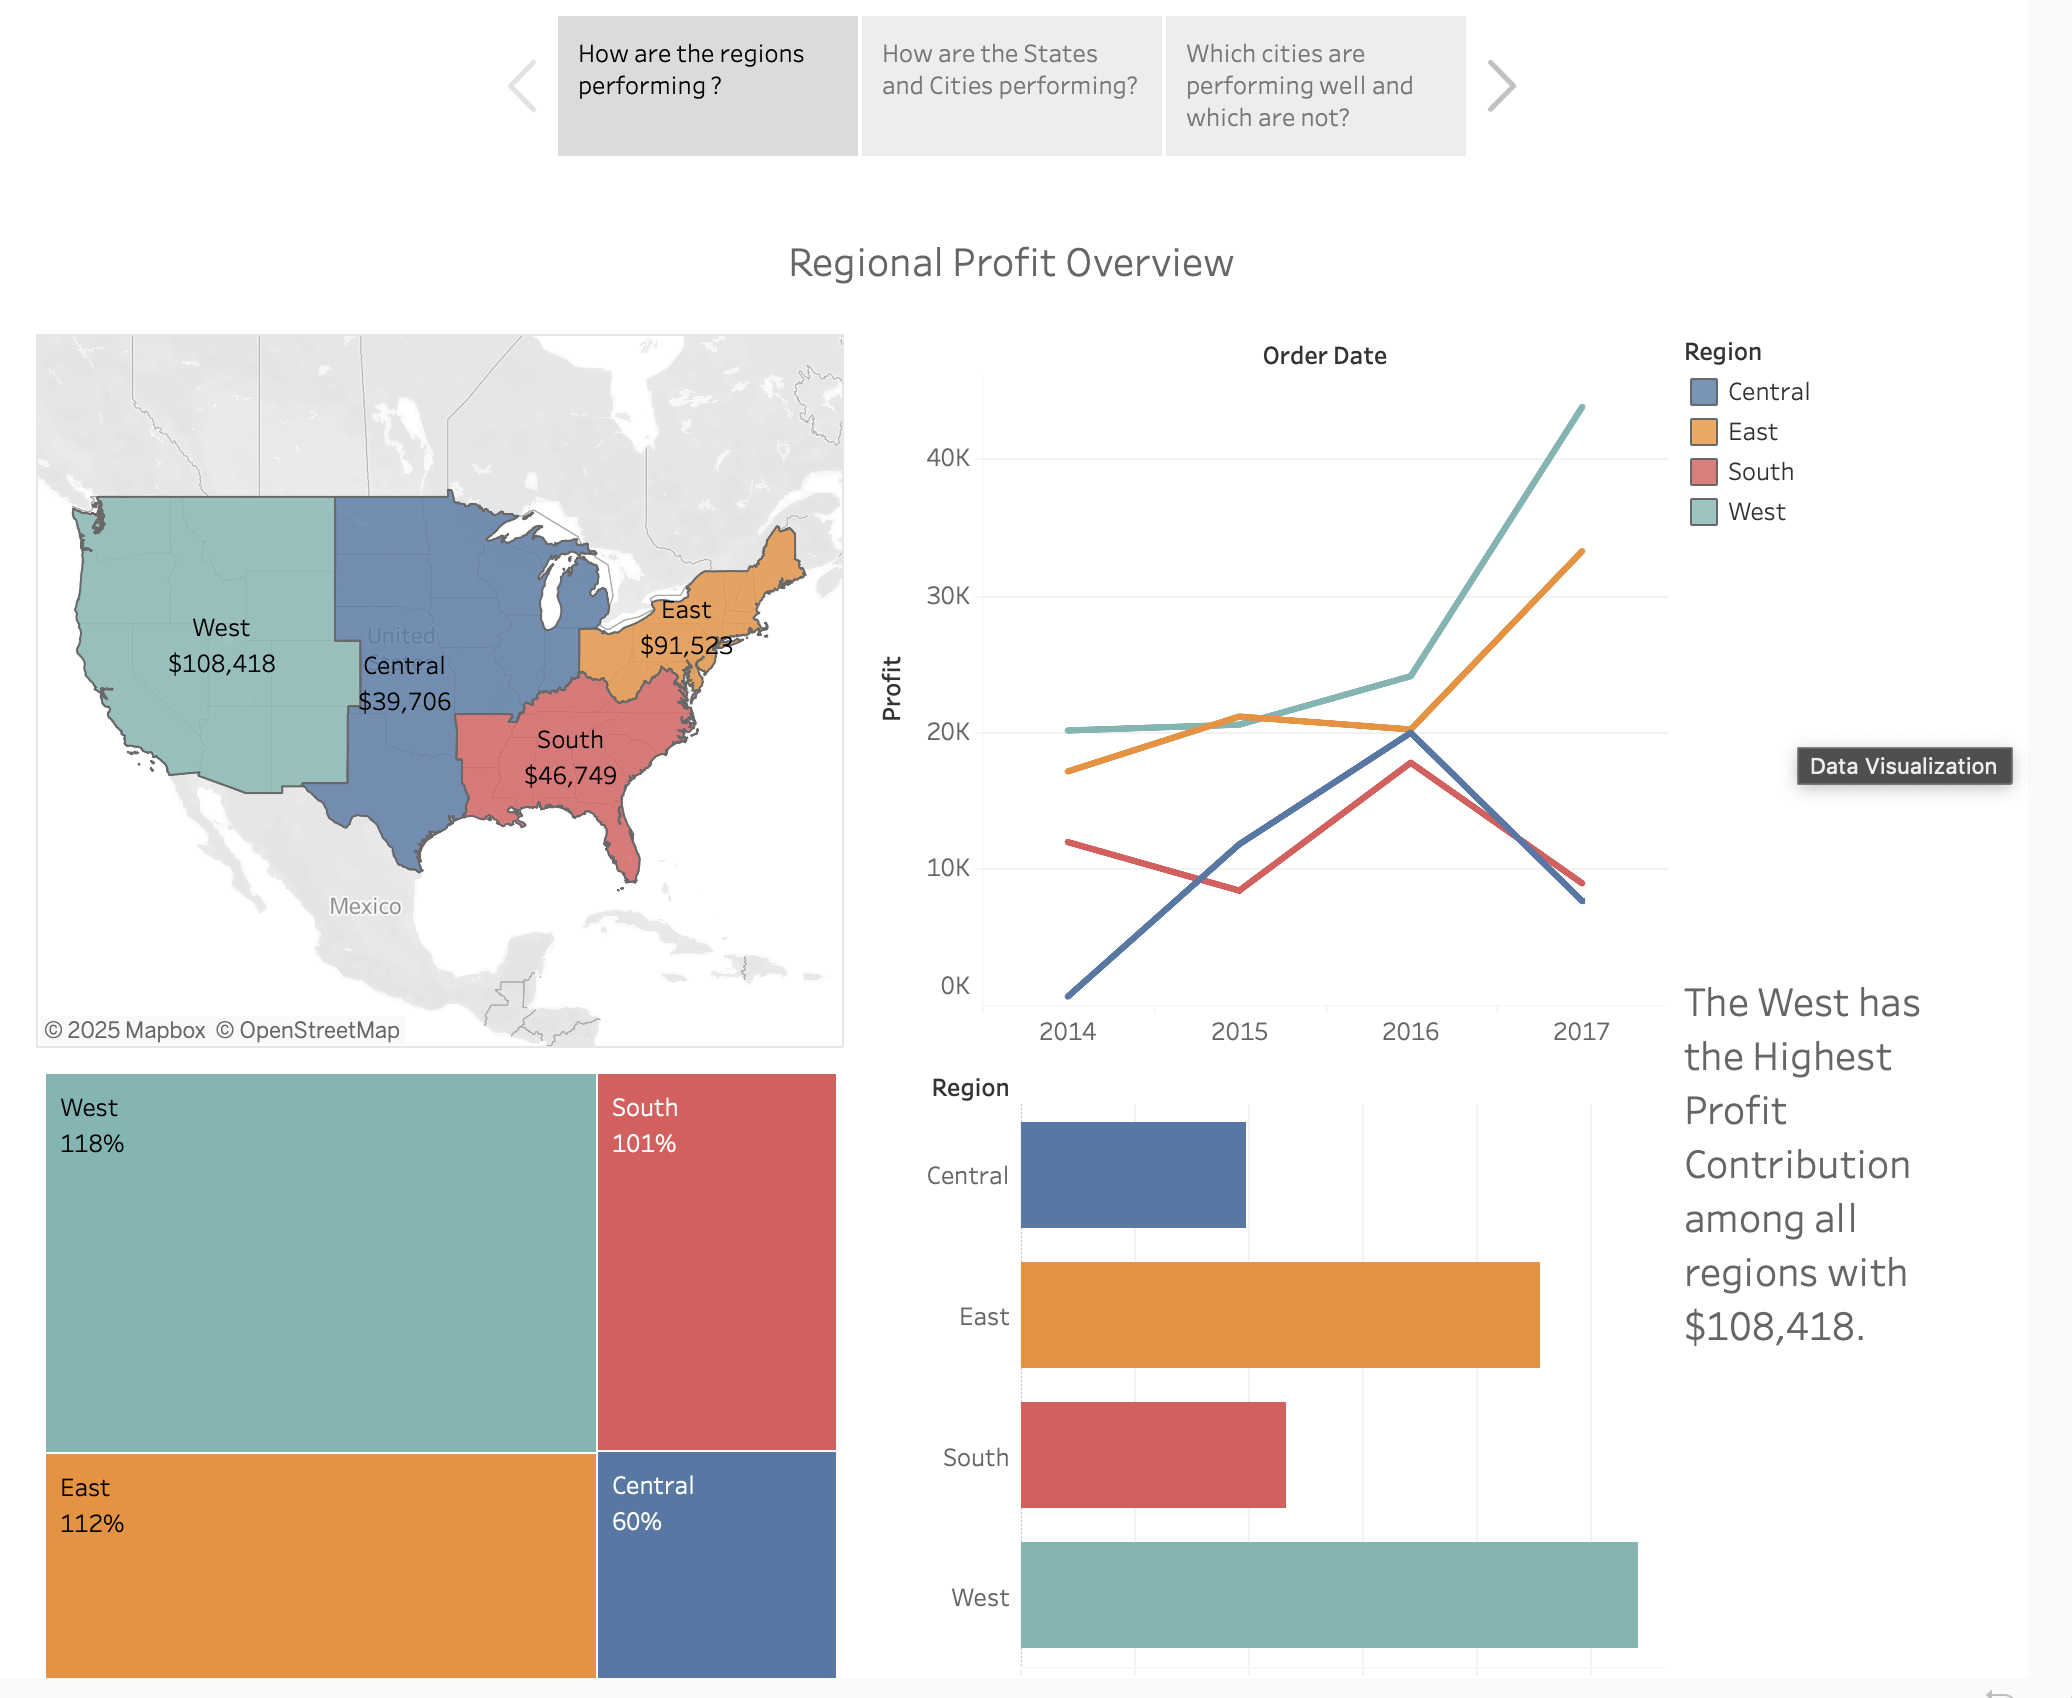

The dashboard page shown, as its layout file describes it:
{"tool":"tableau","page":{"name":"Dashboard 1","canvas":[1000,1000],"units":"permille","ordinal":0},"visuals":[{"type":"text","box":[6.5,13.6,987,80.2]},{"type":"worksheet","title":"Map","mark":"Multipolygon","box":[6.5,93.8,428.3,446.3]},{"type":"worksheet","title":"Line Chart","mark":"Automatic","rows":["Profit"],"cols":["Order Date"],"box":[434.8,93.8,428.3,446.3]},{"type":"legend","title":"Map","param":"[federated.1tn5u9g0qgg7cw1cq0lhu116uvtp].[none:Region:nk]","box":[863.1,93.8,130.4,182.3]},{"type":"blank","box":[863.1,276.1,130.4,187.3]},{"type":"text","box":[863.1,463.4,130.4,335.6]},{"type":"worksheet","title":"Tree map","mark":"Automatic","box":[6.5,540.1,428.3,446.3]},{"type":"worksheet","title":"Bar Chart","mark":"Automatic","rows":["Region"],"cols":["Profit"],"box":[434.8,540.1,428.3,446.3]},{"type":"blank","box":[863.1,799,130.4,187.3]}]}

Visuals, with their boxes on the dashboard's canvas, which has no fixed pixel size, in thousandths of its width and height (x1, y1, x2, y2). These are canvas units, not pixel positions in the 2072x1698 screenshot, which may show the page scaled, cropped or inside an application window:
text: <bbox>6, 14, 994, 94</bbox>
"Map" worksheet (Multipolygon marks): <bbox>6, 94, 435, 540</bbox>
"Line Chart" worksheet: <bbox>435, 94, 863, 540</bbox>
"Map" legend: <bbox>863, 94, 994, 276</bbox>
blank: <bbox>863, 276, 994, 463</bbox>
text: <bbox>863, 463, 994, 799</bbox>
"Tree map" worksheet: <bbox>6, 540, 435, 986</bbox>
"Bar Chart" worksheet: <bbox>435, 540, 863, 986</bbox>
blank: <bbox>863, 799, 994, 986</bbox>
